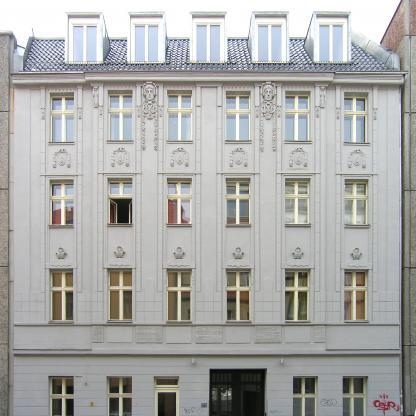Building Outline: (9, 11, 409, 416)
Cornice: (163, 258, 196, 269), (340, 259, 373, 269), (44, 259, 77, 269), (103, 258, 136, 268), (222, 259, 255, 269), (282, 259, 315, 269)
Deco: (260, 81, 277, 153), (142, 81, 158, 153), (288, 147, 308, 167), (111, 147, 130, 167), (170, 147, 189, 167), (229, 147, 248, 167), (52, 149, 71, 168), (348, 149, 366, 169), (55, 247, 67, 260), (114, 246, 126, 259), (292, 247, 304, 259), (173, 247, 185, 259), (232, 247, 244, 259)
Door: (210, 368, 265, 416)
Facade: (9, 72, 401, 416)
Floor: (14, 245, 401, 355), (14, 160, 401, 245), (14, 81, 401, 161)
Floor Slab: (14, 73, 401, 80), (14, 238, 401, 245), (14, 348, 401, 355), (14, 153, 401, 160)
Ground Floor: (14, 355, 401, 416)
Molding: (12, 72, 405, 84)
Roof: (24, 37, 392, 71)
Top Floor: (21, 11, 392, 74)
Window: (285, 268, 311, 321), (167, 268, 192, 321), (226, 268, 251, 321), (108, 268, 133, 320), (168, 90, 193, 141), (49, 268, 73, 321), (226, 91, 251, 141), (344, 92, 369, 142), (345, 269, 369, 321), (286, 91, 311, 140), (108, 90, 132, 140), (50, 93, 74, 142), (285, 179, 311, 224), (107, 178, 132, 224), (167, 178, 192, 224), (226, 178, 251, 224), (49, 180, 74, 225), (345, 179, 369, 224), (257, 23, 284, 63), (319, 23, 346, 63), (48, 376, 74, 416), (72, 23, 97, 64), (343, 376, 368, 416), (133, 23, 158, 63), (195, 23, 220, 63), (107, 376, 132, 416), (154, 376, 179, 416), (293, 376, 317, 416)
